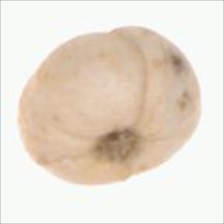L5: (21, 31, 148, 140), (89, 121, 151, 166)
L6: (18, 22, 205, 187)
